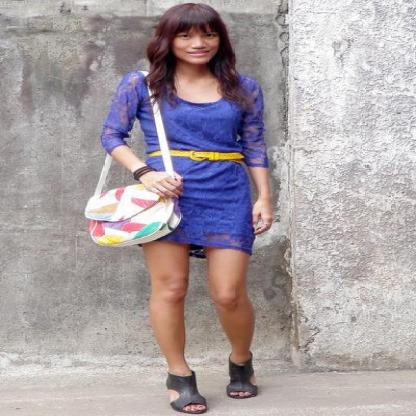bag: (84, 108, 180, 246)
dress: (100, 67, 279, 255)
shoe: (166, 358, 253, 396)
